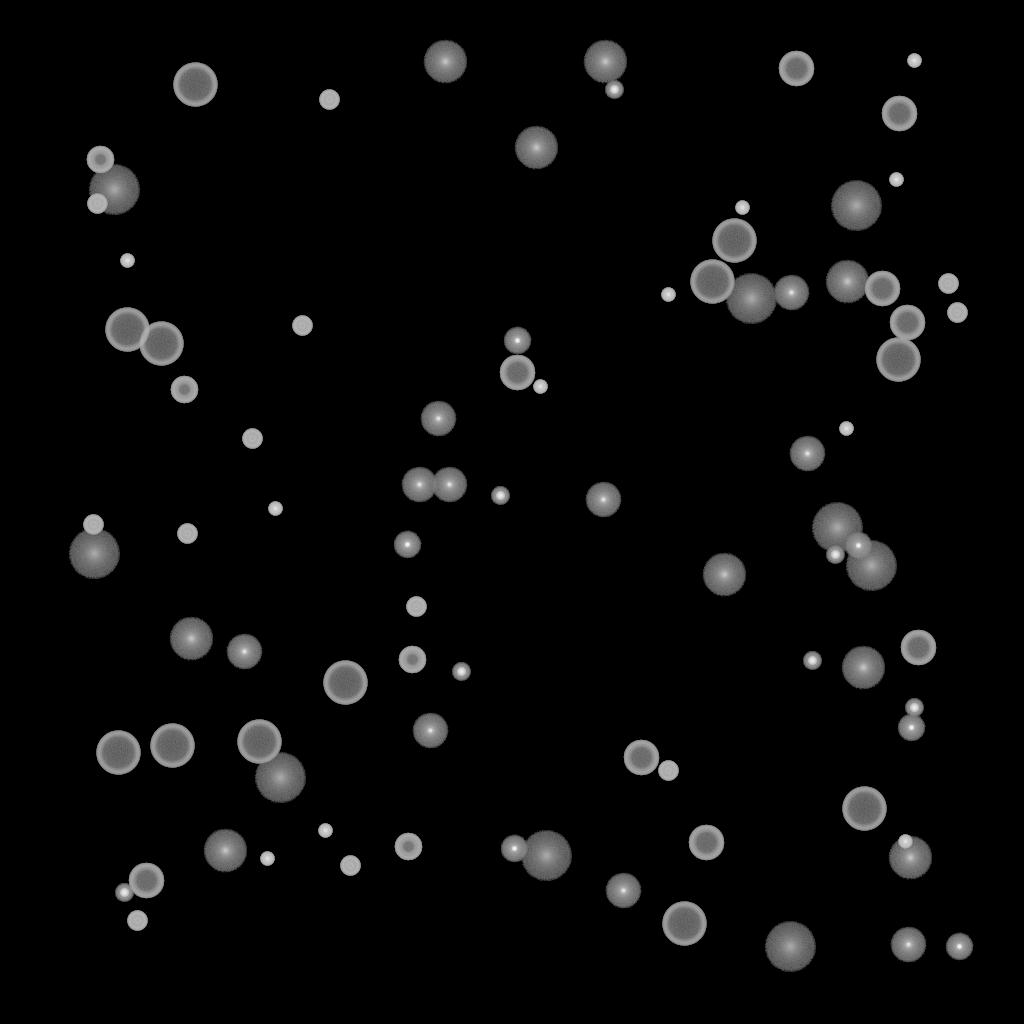depth:-10: (844, 532, 872, 560), (945, 933, 973, 961), (393, 531, 421, 559), (503, 327, 531, 355), (897, 714, 925, 742), (500, 835, 528, 863)
depth:-20: (905, 699, 923, 717), (491, 487, 509, 505), (452, 663, 470, 681), (605, 81, 623, 99), (826, 546, 844, 564), (115, 884, 133, 902), (803, 652, 821, 670)
depth:-30: (898, 835, 912, 849), (661, 288, 675, 302), (533, 380, 547, 394), (260, 852, 274, 866), (268, 502, 282, 516), (120, 254, 134, 268), (318, 824, 332, 838), (839, 422, 853, 436), (889, 173, 903, 187), (735, 201, 749, 215), (907, 54, 921, 68)
depth:-40: (83, 515, 103, 535), (177, 524, 197, 544), (319, 90, 339, 110), (292, 316, 312, 336), (87, 194, 107, 214), (127, 911, 147, 931), (938, 274, 958, 294), (658, 761, 678, 781), (406, 597, 426, 617), (242, 429, 262, 449), (947, 303, 967, 323), (340, 856, 360, 876)
depth:-50: (170, 376, 198, 404), (394, 833, 422, 861), (398, 646, 426, 674), (86, 146, 114, 174)
depth:-60: (128, 863, 164, 899), (688, 825, 724, 861), (889, 305, 925, 341), (900, 630, 936, 666), (499, 355, 535, 391), (778, 51, 814, 87), (864, 271, 900, 307), (623, 740, 659, 776), (881, 96, 917, 132)
depth:-70: (105, 308, 149, 352), (237, 720, 281, 764), (150, 724, 194, 768), (876, 338, 920, 382), (323, 661, 367, 705), (842, 787, 886, 831), (712, 219, 756, 263), (173, 63, 217, 107), (96, 731, 140, 775), (690, 260, 734, 304), (662, 902, 706, 946), (139, 322, 183, 366)
depth:0: (420, 401, 456, 437), (585, 482, 621, 518), (789, 436, 825, 472), (226, 634, 262, 670), (605, 873, 641, 909), (412, 713, 448, 749), (890, 927, 926, 963), (773, 275, 809, 311), (431, 467, 467, 503), (401, 467, 437, 503)
depth:10: (841, 646, 885, 690), (514, 126, 558, 170), (583, 40, 627, 84), (423, 40, 467, 84), (169, 617, 213, 661), (888, 836, 932, 880), (702, 553, 746, 597), (825, 260, 869, 304), (203, 829, 247, 873)
depth:20: (88, 165, 140, 215), (830, 181, 882, 231), (811, 503, 863, 553), (254, 753, 306, 803), (68, 529, 120, 579), (520, 831, 572, 881), (845, 541, 897, 591), (725, 274, 777, 324), (764, 922, 816, 972)
